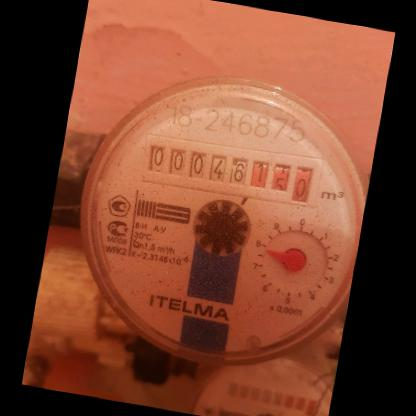digital_screen: (136, 131, 252, 198)
